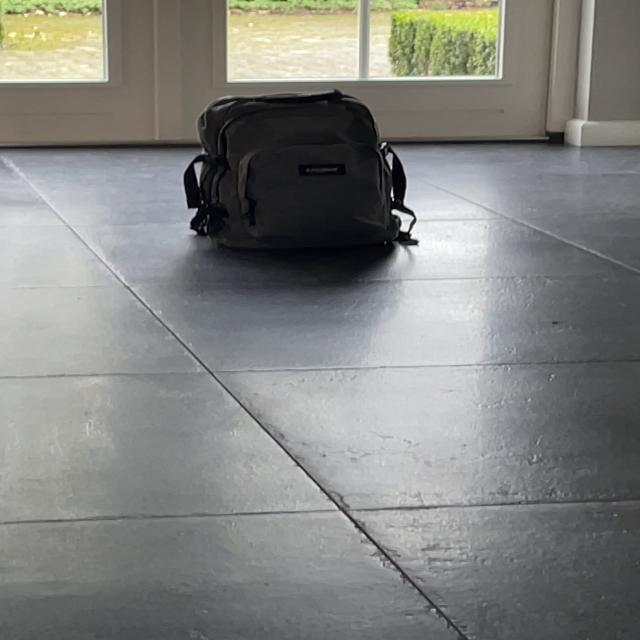backpack: (172, 83, 418, 262)
